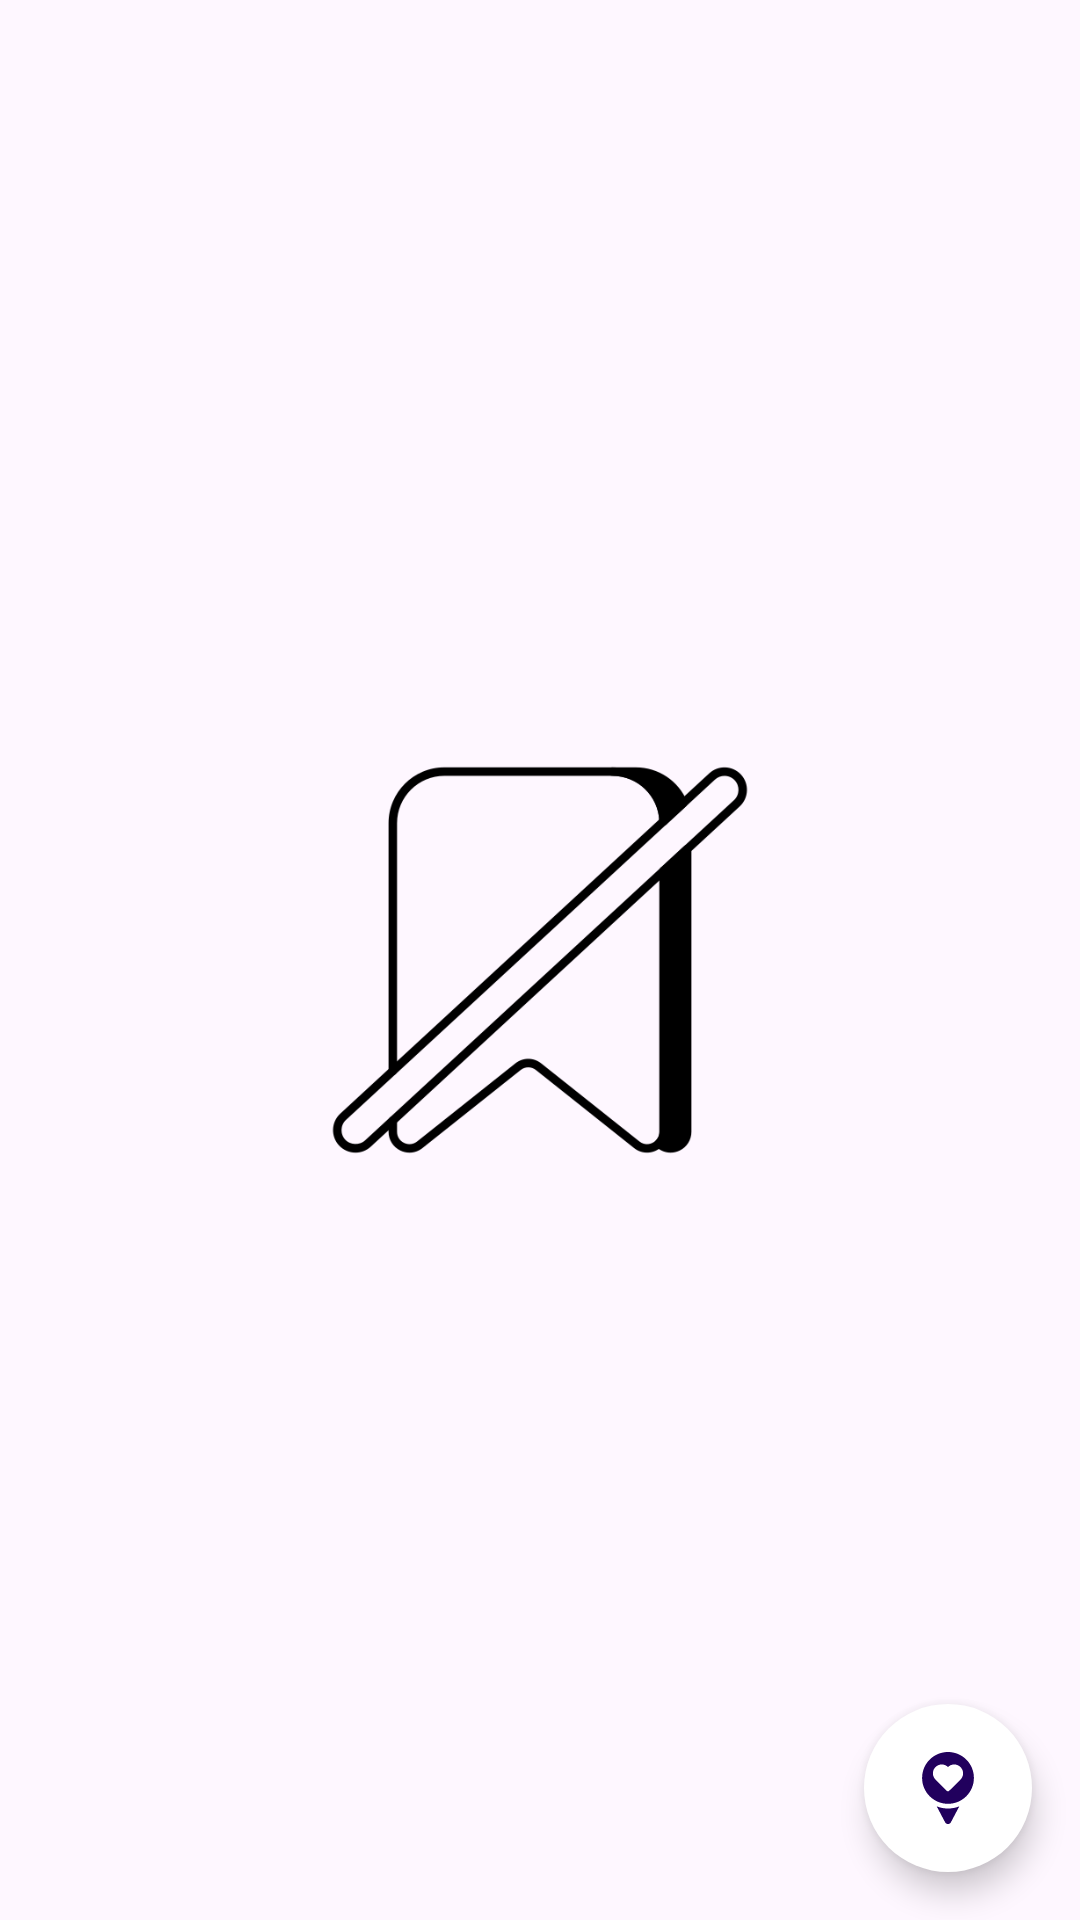

Named icons in this screenshot (1080×1920) and their bounding boxes, (x1=x1, y1=y1, x2=x2, y2=y2):
favorite locations: (x1=864, y1=1704, x2=1032, y2=1872)
